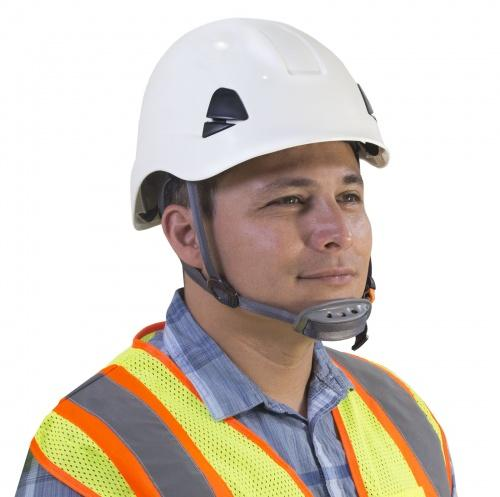helmet: (123, 16, 393, 226)
